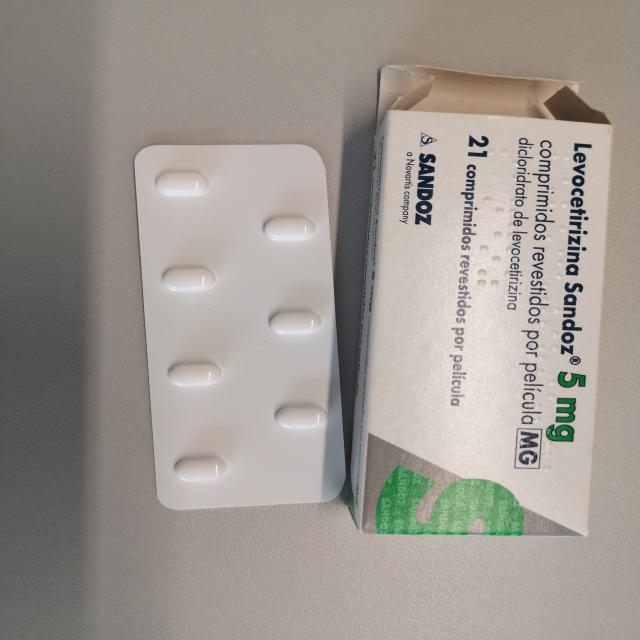Pill: (150, 258, 228, 307), (245, 208, 327, 253), (258, 300, 336, 347), (162, 350, 234, 397), (262, 394, 336, 437), (144, 164, 213, 207), (168, 450, 238, 490)
